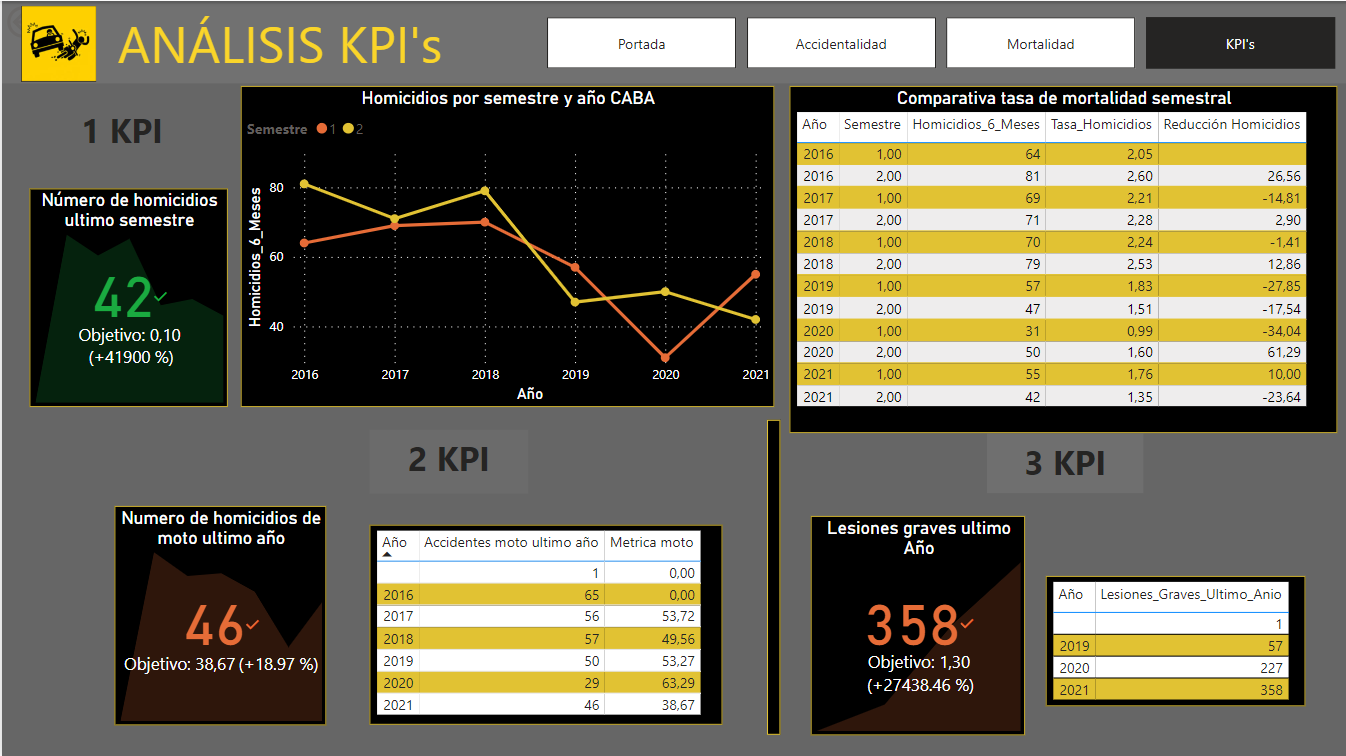

Layout of this report page (visuals, bound fields, positions):
{"tool":"powerbi","page":{"name":"KPI's ","canvas":[1280,720],"ordinal":3},"visuals":[{"type":"tableEx","title":"Comparativa tasa de mortalidad semestral","fields":{"Values":["Calendario.Fecha.Variación.Jerarquía de fechas.Año","Calendario.Semestre","Medidas modeladas.Homicidios_6_Meses","Medidas modeladas.Tasa_Homicidios","Medidas modeladas.Reducción Homicidios"]},"box":[750.3,81.5,521.7,330.1],"z":0},{"type":"actionButton","box":[0,0,100,40],"z":1000},{"type":"textbox","box":[0,2.4,1280.5,76.2],"z":2000},{"type":"image","box":[0,0,107.1,82.1],"z":3000},{"type":"pageNavigator","box":[518.9,15.5,753.3,50],"z":4000},{"type":"lineChart","title":"Homicidios por semestre y año CABA","fields":{"Category":["Calendario.Fecha.Variación.Jerarquía de fechas.Año"],"Series":["Calendario.Semestre"],"Y":["Medidas modeladas.Homicidios_6_Meses"]},"box":[227.8,81.4,507.7,305.9],"z":5000},{"type":"kpi","title":"Número de homicidios ultimo semestre","fields":{"Indicator":["Medidas modeladas.Homicidios_6_Meses"],"Goal":["Medidas modeladas.KPI homicidio objetivo"],"TrendLine":["Calendario.Año"]},"box":[26,179,188.8,208.3],"z":6000},{"type":"kpi","title":"Numero de homicidios de moto ultimo año","fields":{"Indicator":["Medidas modeladas.Accidentes_Mortales_Motociclistas_Ultimo_Anio"],"TrendLine":["Calendario.Año"],"Goal":["Medidas modeladas.Metrica moto"]},"box":[107.2,480.2,201.5,208.7],"z":7000},{"type":"tableEx","fields":{"Values":["Calendario.Fecha.Variación.Jerarquía de fechas.Año","Medidas modeladas.Accidentes_Mortales_Motociclistas_Ultimo_Anio","Medidas modeladas.KPI moto"]},"box":[350.2,498.8,335.9,190.1],"z":8000},{"type":"textbox","box":[13,96,201.8,53.7],"z":9000},{"type":"tableEx","fields":{"Values":["Calendario.Fecha.Variación.Jerarquía de fechas.Año","Medidas modeladas.Lesiones_Graves_Ultimo_Anio"]},"box":[993.3,547.4,247.3,124.3],"z":9001},{"type":"kpi","title":"Lesiones graves ultimo Año","fields":{"TrendLine":["Calendario.Año"],"Indicator":["Rango KPI MOTO.Lesiones_Graves_Ultimo_Anio"],"Goal":["Rango KPI MOTO.Rango KPI Lesiones"]},"box":[770.3,490.2,204.4,208.7],"z":9002},{"type":"textbox","box":[349.9,408.2,151.1,60.7],"z":9003},{"type":"textbox","box":[937.6,411.6,148.6,57.2],"z":9004},{"type":"shape","box":[728.3,398.7,13.1,299.9],"z":9005}]}

Visuals, with their boxes in screenshot pixels (x1, y1, x2, y2), scaled from the page's 1280x720 canvas onto the 1346x756 screenshot:
"Comparativa tasa de mortalidad semestral" tableEx: 789 86 1338 432
actionButton: 0 0 105 42
textbox: 0 3 1345 83
image: 0 0 113 86
pageNavigator: 546 16 1338 69
"Homicidios por semestre y año CABA" lineChart: 240 85 773 407
"Número de homicidios ultimo semestre" kpi: 27 188 226 407
"Numero de homicidios de moto ultimo año" kpi: 113 504 325 723
tableEx - Calendario.Fecha.Variación.Jerarquía de fechas.Año x Medidas modeladas.Accidentes_Mortales_Motociclistas_Ultimo_Anio: 368 524 721 723
textbox: 14 101 226 157
tableEx - Calendario.Fecha.Variación.Jerarquía de fechas.Año x Medidas modeladas.Lesiones_Graves_Ultimo_Anio: 1045 575 1305 705
"Lesiones graves ultimo Año" kpi: 810 515 1025 734
textbox: 368 429 527 492
textbox: 986 432 1142 492
shape: 766 419 780 734
